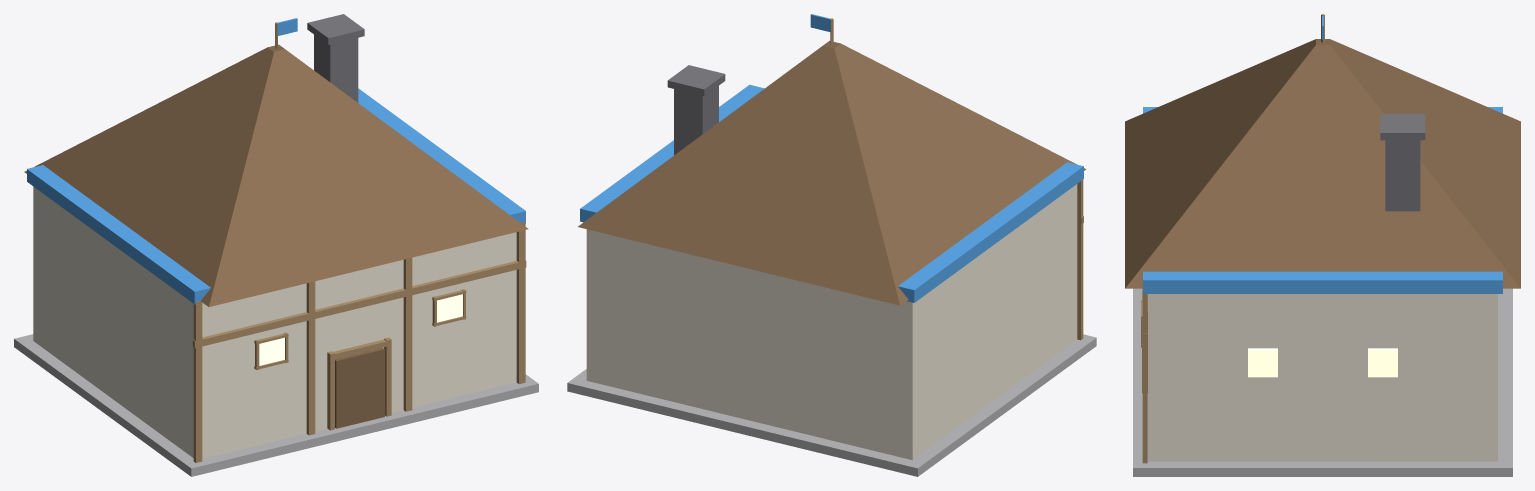
Rendered from townhall_blue.glb.
3 renders of one model, left to right at view 1: azimuth 30°, elevation 25°; view 2: azimuth 150°, elevation 25°; view 3: azimuth 270°, elevation 25°, orthographic. The views are drawn at different scales.
Parts seen in each view (by area): view 1: TownHall_blue; view 2: TownHall_blue; view 3: TownHall_blue.
Part boxes in pixels (x1=…): TownHall_blue: x1=14, y1=14, x2=538, y2=476; TownHall_blue: x1=567, y1=14, x2=1096, y2=476; TownHall_blue: x1=1125, y1=14, x2=1520, y2=476.
Bounding box in the file's own units: 4.3 × 4.1 × 3.96.
